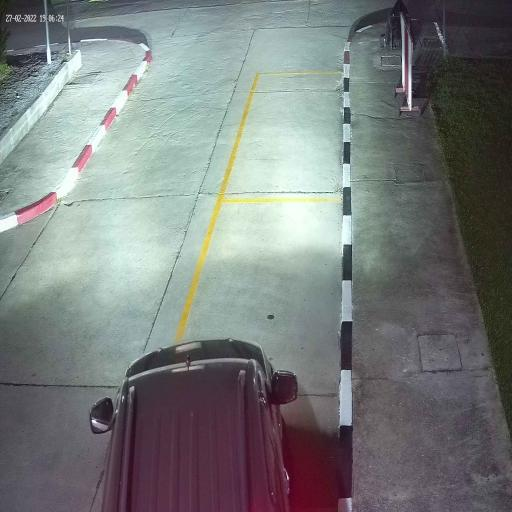car: (99, 338, 291, 512)
